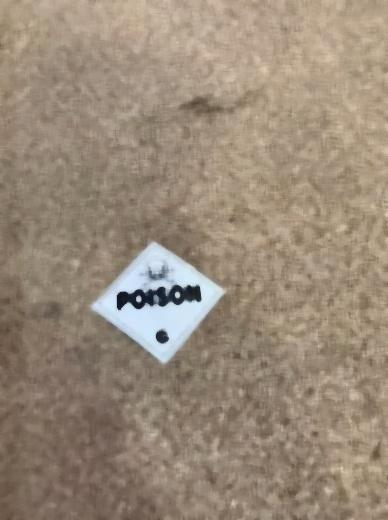poison: (88, 241, 225, 365)
